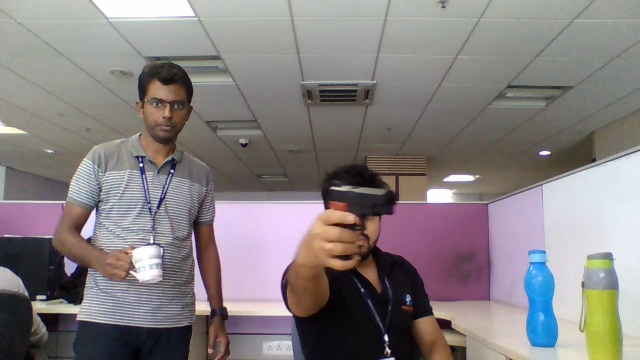gun: (324, 182, 398, 220)
